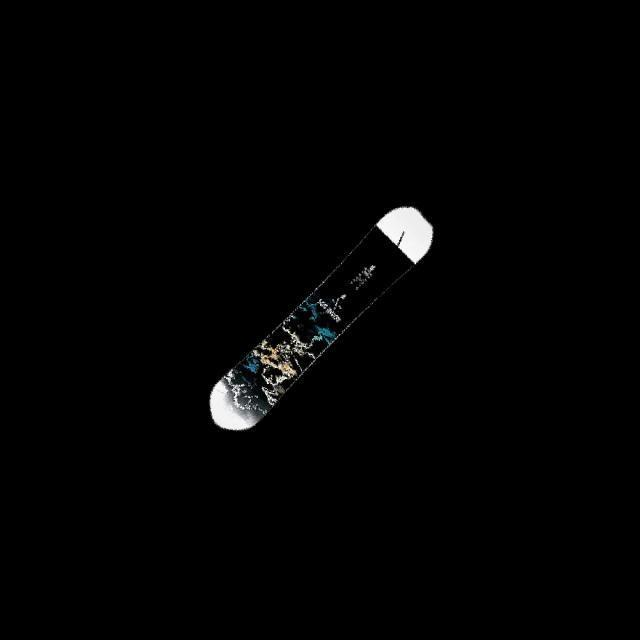Snowboard: (208, 204, 434, 431)
